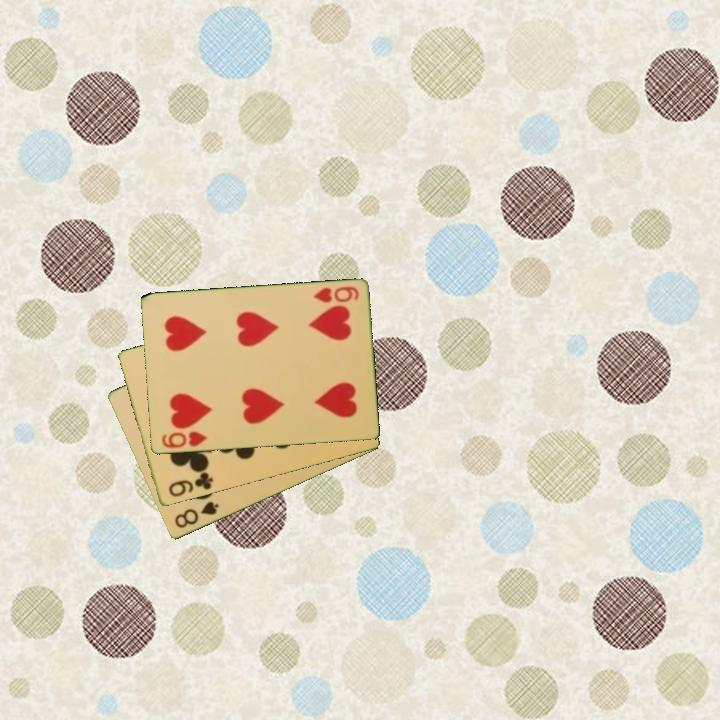6h: (158, 428, 210, 451), (310, 283, 361, 306)
8s: (171, 498, 222, 531)
9c: (165, 469, 216, 500)
